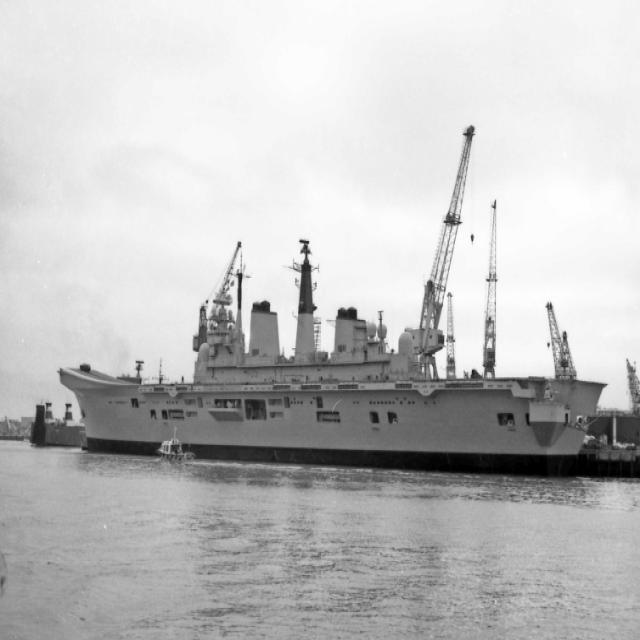Portanaves: (58, 243, 611, 463)
